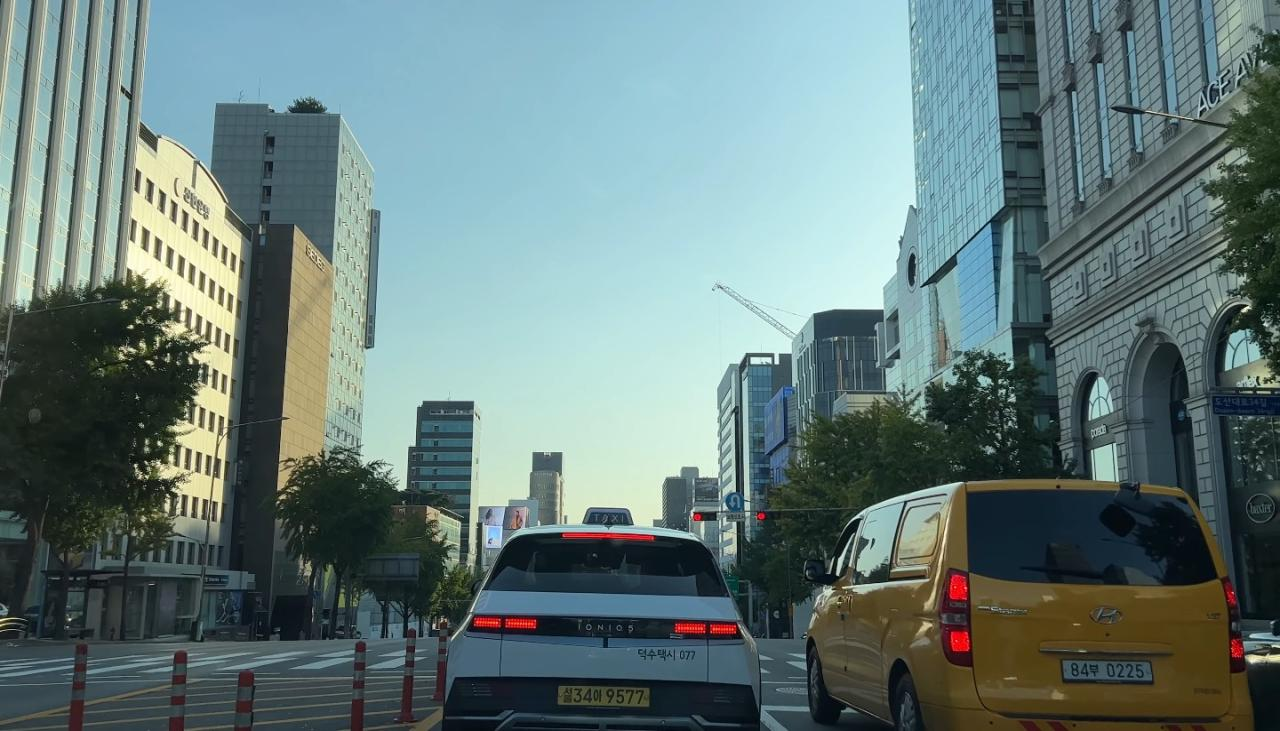Red Light: (756, 510, 766, 520), (694, 512, 702, 521)
